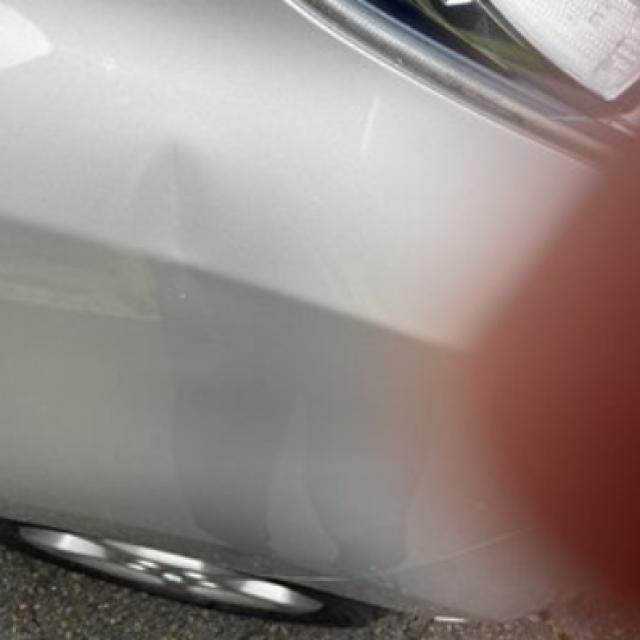dents: (139, 132, 203, 245)
